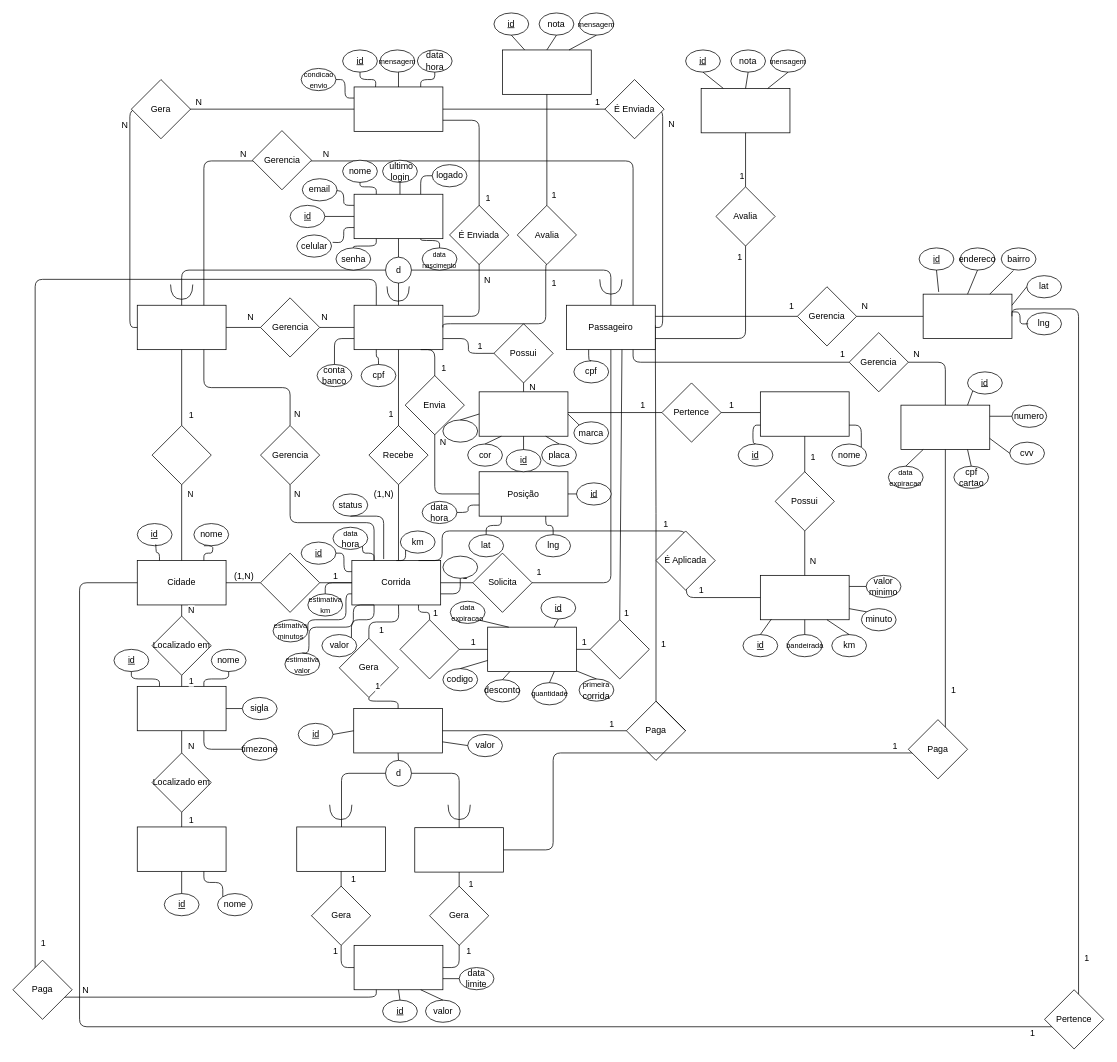
Some shapes in this 1117 by 1062 pixel diagram are drawn without their labels. The shapes that lost their labels are listed below. From the top down, each one's box as (x1, y1, x2, y2) in pixels, then its label:
(502, 49, 591, 94): Avaliação Passageiro
(353, 86, 443, 131): Notificação
(700, 88, 790, 133): Avaliação Motorista
(353, 194, 443, 239): Usuário
(137, 305, 226, 350): Gestor
(353, 305, 443, 350): Motorista
(922, 293, 1012, 339): Endereço Favorito
(442, 419, 478, 442): modelo
(478, 391, 568, 436): Veículo
(760, 391, 849, 436): Categoria
(900, 404, 990, 450): Cartão
(151, 425, 211, 485): Cadastra
(260, 552, 320, 612): Acontece em
(442, 555, 478, 578): minutos
(760, 575, 849, 620): Tarifa
(399, 619, 459, 679): Desconta
(487, 626, 576, 672): Cupom
(589, 619, 649, 679): Usa
(137, 686, 226, 731): Estado
(353, 708, 443, 753): Transação
(137, 826, 226, 871): País
(296, 826, 386, 871): Transação Dinheiro
(414, 827, 504, 872): Transação Cartão
(353, 945, 443, 990): Conta
